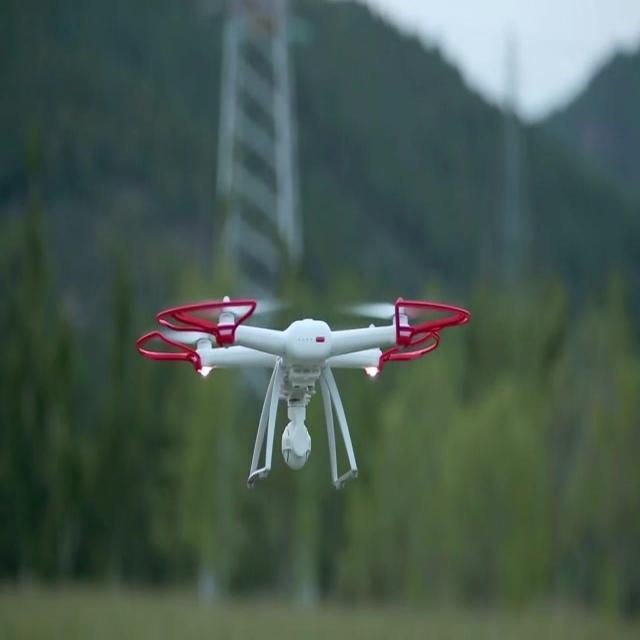UAV: (135, 296, 471, 489)
